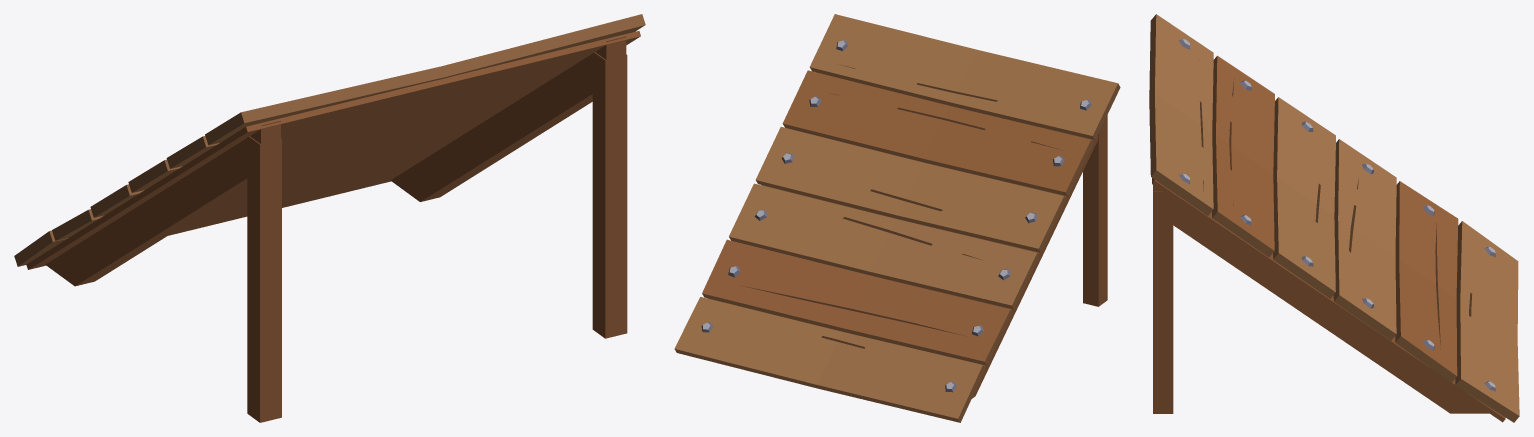
Rendered from ramp_plank.glb.
3 views of the same model, side by side, from view 1: azimuth 30°, elevation 25°; view 2: azimuth 150°, elevation 25°; view 3: azimuth 270°, elevation 25° (orthographic). The views are drawn at different scales.
Visible parts, largest first — view 1: Body; view 2: Body; view 3: Body.
Part boxes in pixels (x1=…): Body: x1=14, y1=14, x2=645, y2=422; Body: x1=674, y1=14, x2=1120, y2=422; Body: x1=1149, y1=14, x2=1519, y2=422.
Size of the model in its own units: 4 by 3.04 by 4.
